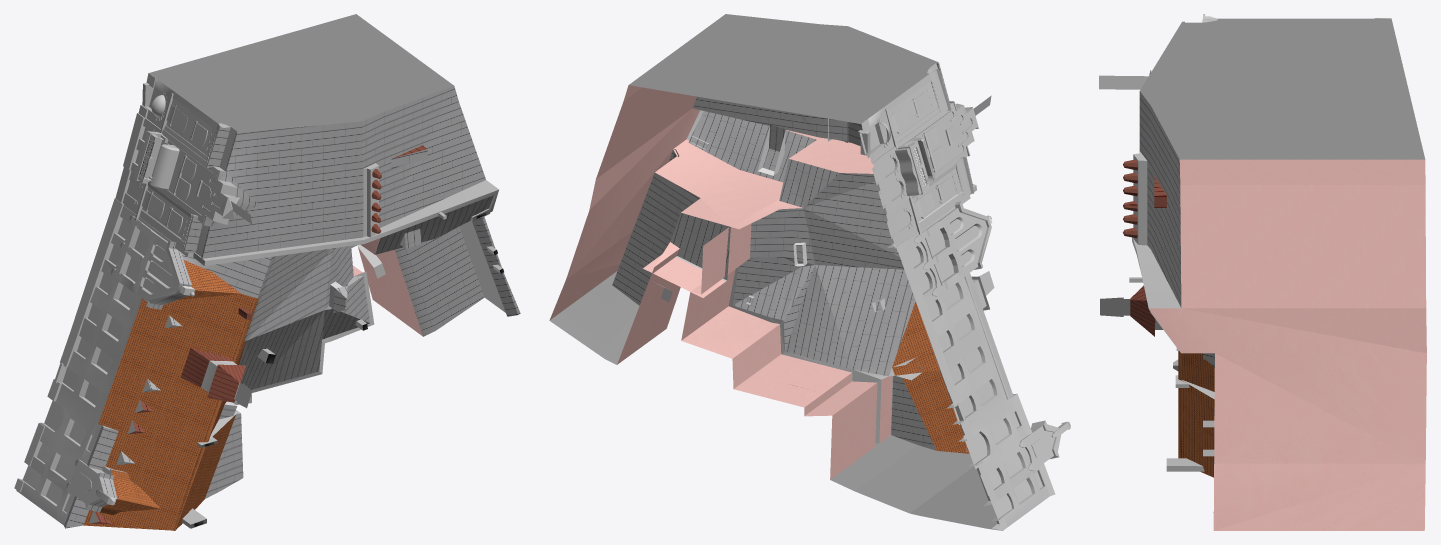
File: Rataskaevu_3.obj
3 renders of one model, left to right at view 1: azimuth 30°, elevation 25°; view 2: azimuth 150°, elevation 25°; view 3: azimuth 270°, elevation 25°, orthographic. The views are drawn at different scales.
Visible parts, largest first — view 1: Rataskaevu_3; view 2: Rataskaevu_3; view 3: Rataskaevu_3.
Part boxes in pixels (<box>): Rataskaevu_3: <box>14,14,520,530</box>; Rataskaevu_3: <box>549,14,1070,530</box>; Rataskaevu_3: <box>1099,14,1426,530</box>.
Size of the model in its own units: 44.67 by 37.11 by 22.95.
